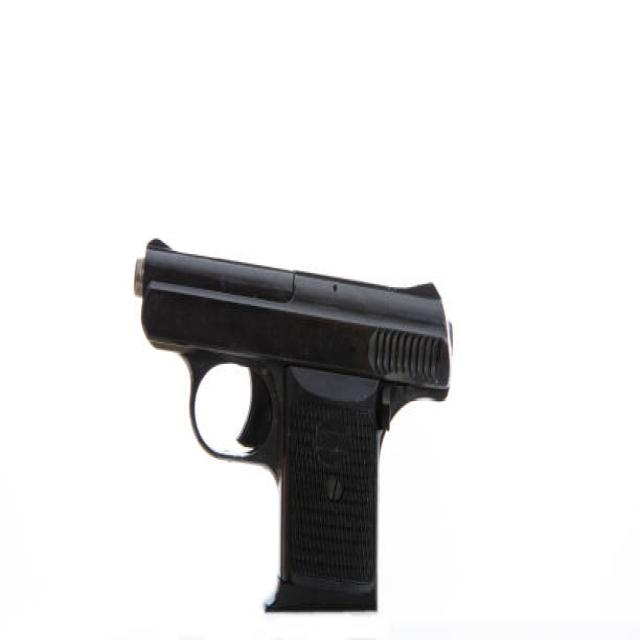pistol: (130, 232, 453, 621)
